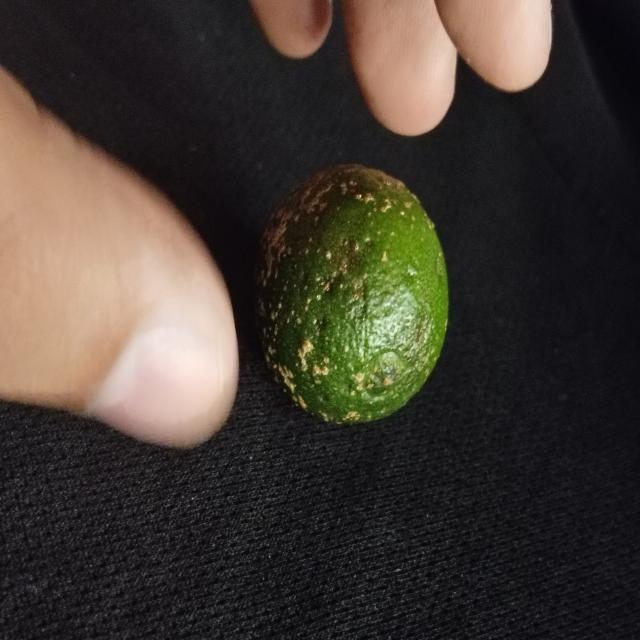scab: (256, 159, 458, 431)
